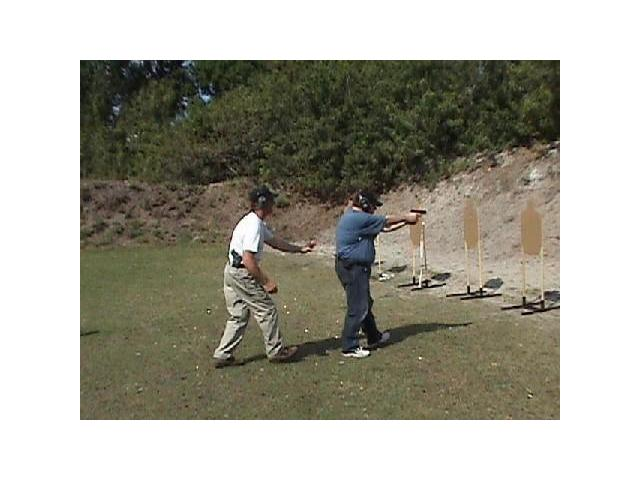pistol: (404, 207, 429, 225)
